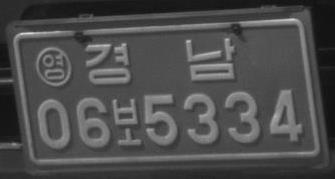0: (36, 97, 72, 150)
3: (224, 89, 261, 145), (183, 92, 221, 146)
4: (269, 88, 303, 143)
5: (143, 92, 178, 148)
6: (75, 96, 112, 150)
경남_D: (83, 37, 235, 86)
보: (113, 96, 142, 146)
영: (34, 45, 72, 88)
